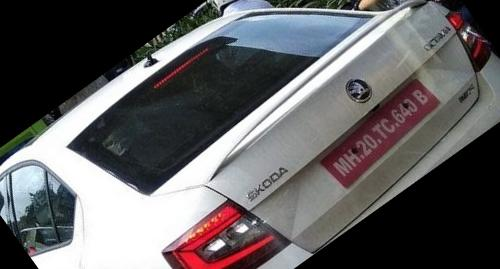plate: (306, 65, 466, 199)
